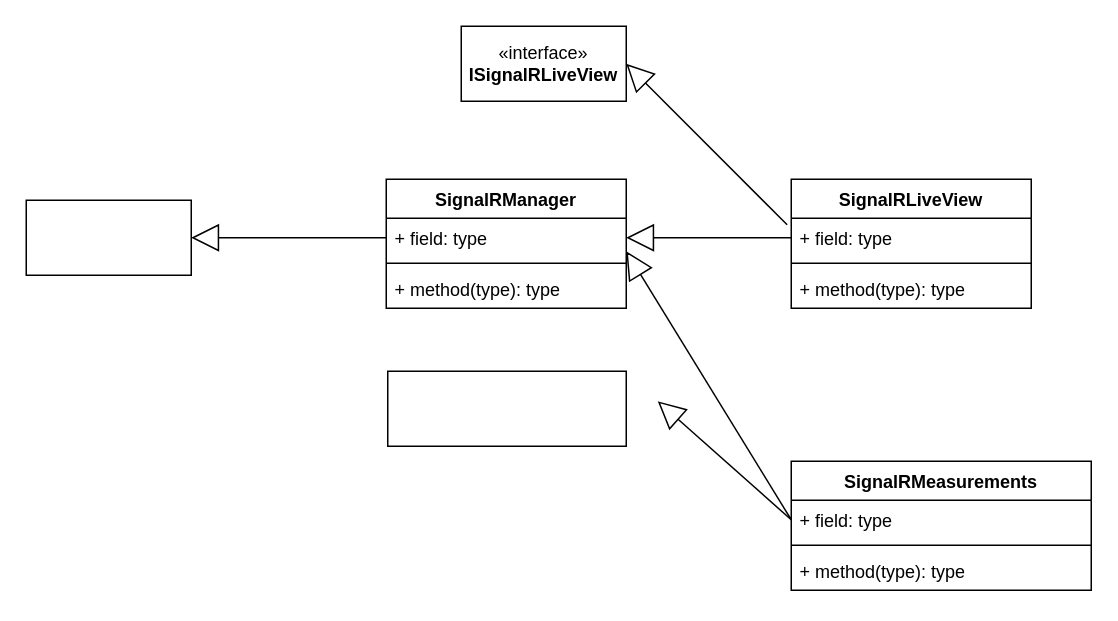
The diagram is 1118 pixels wide and 621 high, and some of its shapes have lost their labels. The centre of each missing label's shape, as x and y in pixels:
«interface» I SignalRMeasurements: the point at 506,408
«interface» ISignalRManager: the point at 108,237
